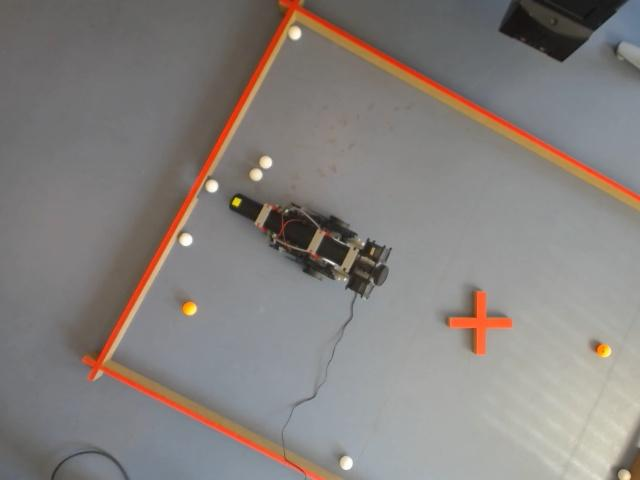orange: (594, 342, 614, 360), (181, 300, 199, 316)
robot: (229, 194, 392, 300)
robot-front: (230, 194, 259, 219)
white: (338, 454, 354, 472), (288, 24, 302, 40), (178, 232, 192, 247), (259, 155, 273, 170), (249, 168, 263, 182), (616, 468, 632, 480), (206, 178, 218, 193)
